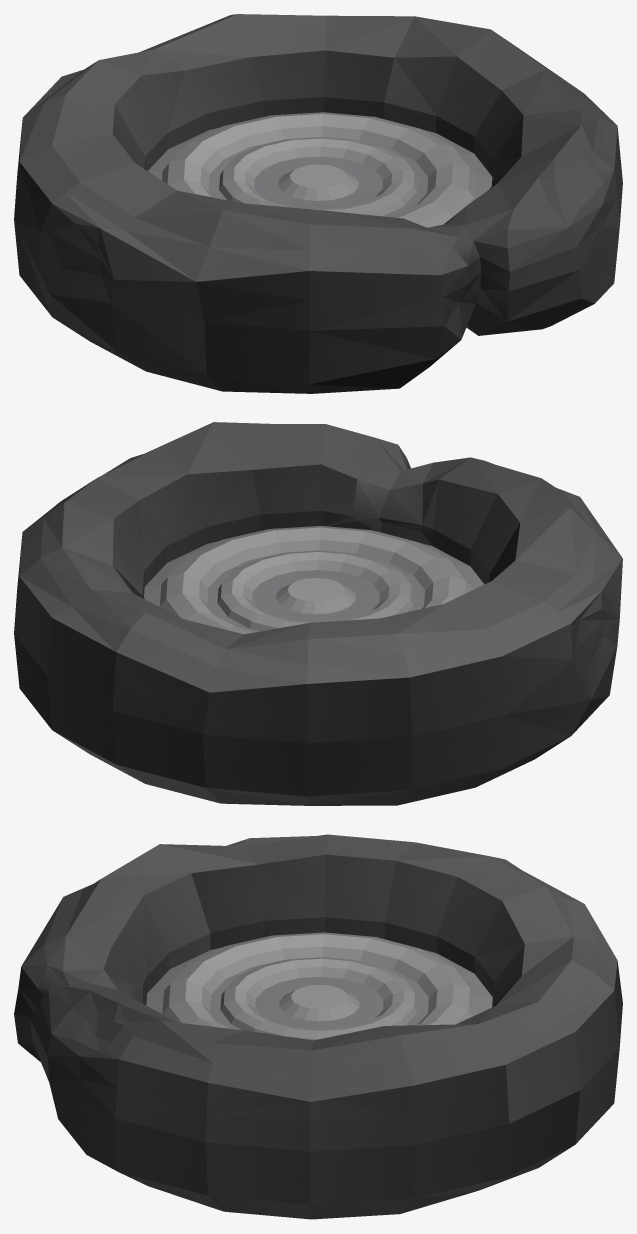
The model's file is car_wheel.obj.
3 renders of one model, top to bottom at view 1: azimuth 30°, elevation 25°; view 2: azimuth 150°, elevation 25°; view 3: azimuth 270°, elevation 25°, orthographic.
Visible parts, largest first — view 1: car_wheel_Material; view 2: car_wheel_Material; view 3: car_wheel_Material.
Boxes of the visible parts, <box> form: car_wheel_Material: <box>14,14,622,393</box>; car_wheel_Material: <box>14,422,622,805</box>; car_wheel_Material: <box>14,834,622,1219</box>.
Bounding box in the file's own units: 0.8314 × 0.2674 × 0.8155.
